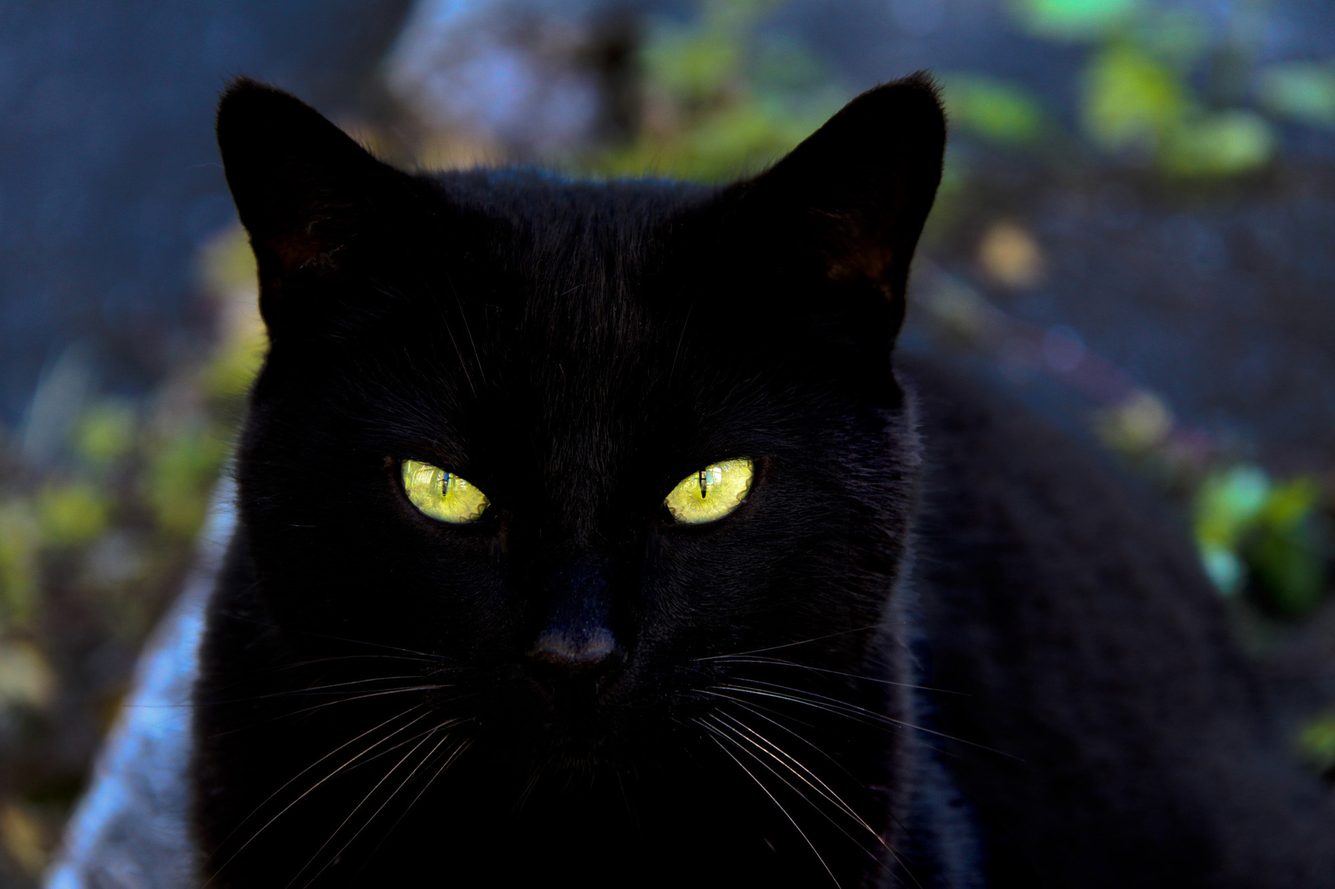cat: (157, 73, 1312, 888)
